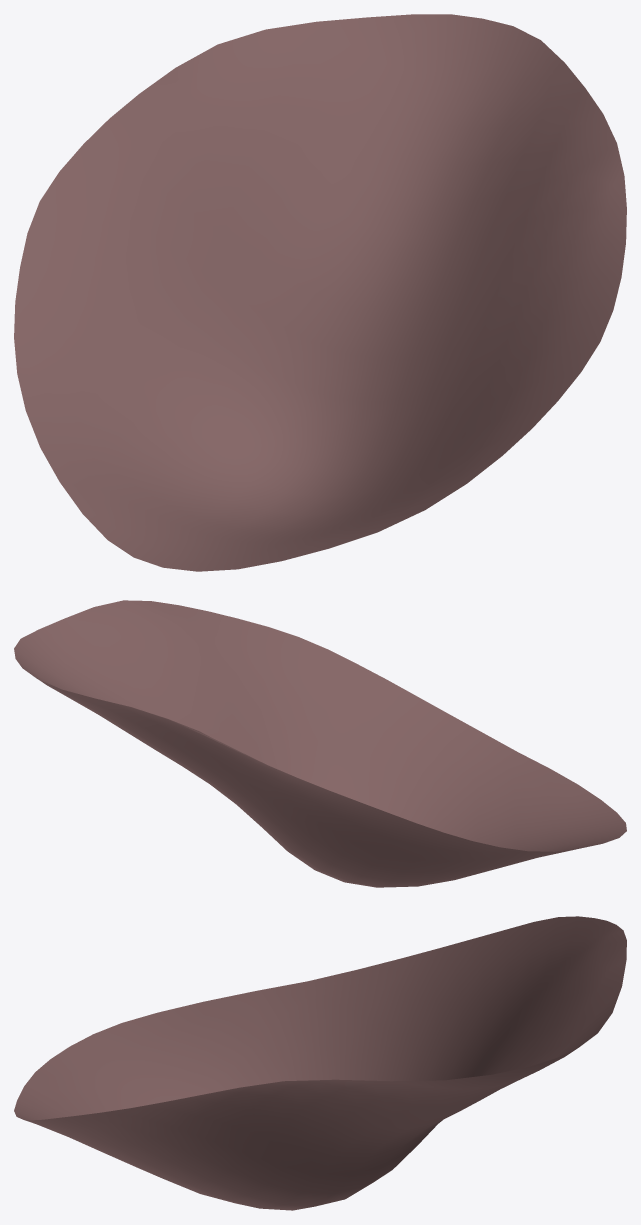
Rendered from petal1.obj.
The picture shows the model from 3 angles, top to bottom: view 1: azimuth 30°, elevation 25°; view 2: azimuth 150°, elevation 25°; view 3: azimuth 270°, elevation 25°; orthographic projection. The views are drawn at different scales.
Parts seen in each view (by area): view 1: pPlane10; view 2: pPlane10; view 3: pPlane10.
Boxes of the visible parts, <box> form: pPlane10: <box>14,14,626,571</box>; pPlane10: <box>14,600,626,887</box>; pPlane10: <box>14,916,626,1210</box>.
Size of the model in its own units: 0.8246 by 0.4026 by 0.7245.
